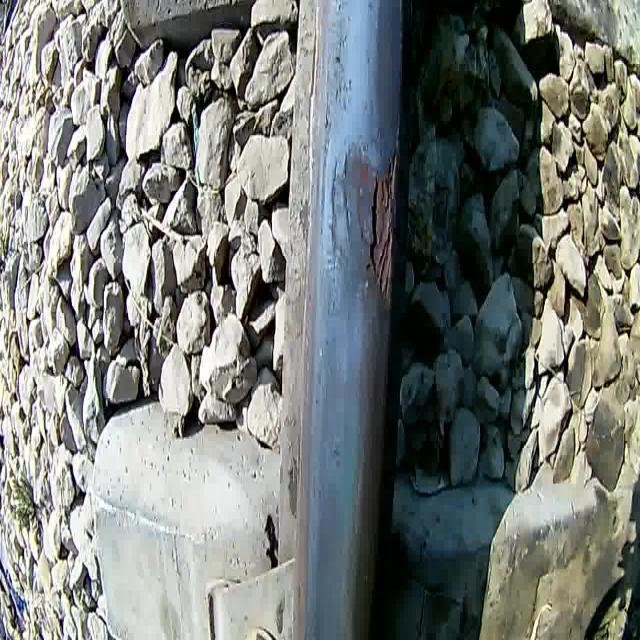Cracks: (327, 146, 355, 261), (388, 106, 404, 208)
Spallings: (366, 150, 399, 307)
Squats: (327, 108, 403, 311)
